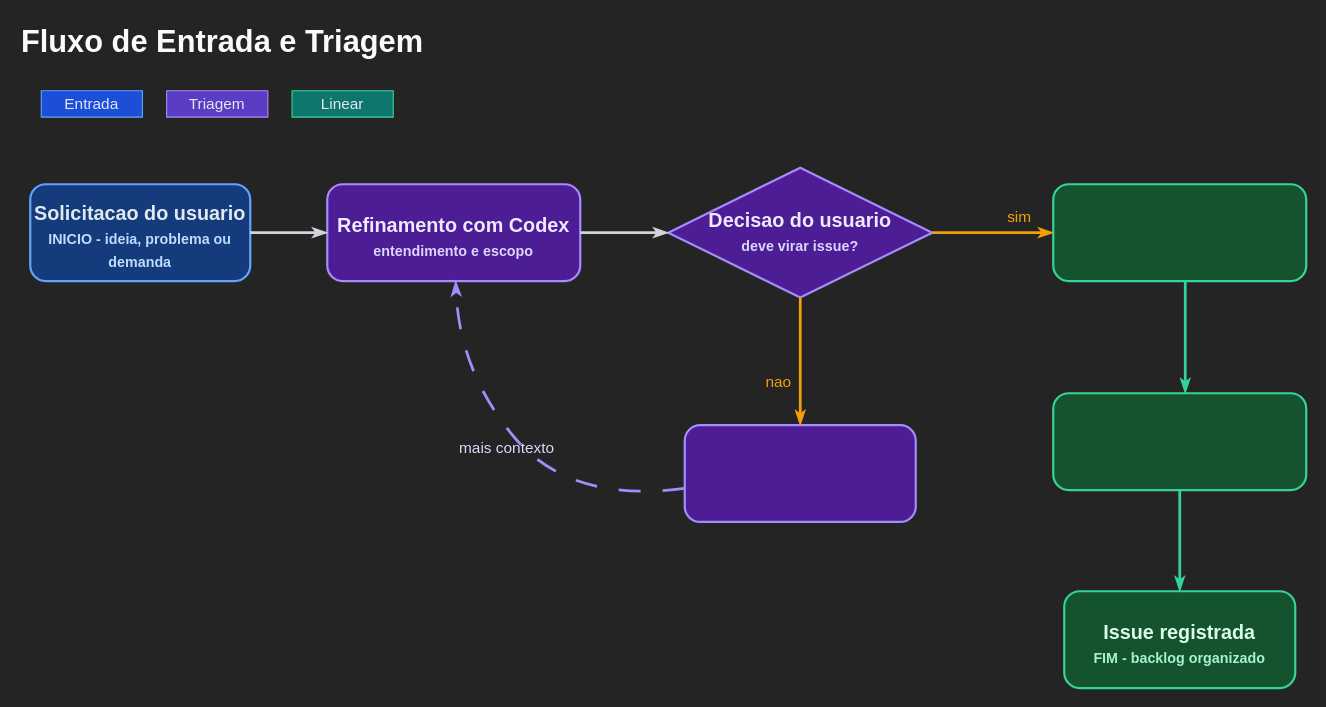
Some shapes in this 1326 by 707 pixel diagram are drawn without their labels. The box of each missing label's shape, as (x1, y1, x2, y2) in pixels:
Coletar mais contexto escopo ainda indefinido: (683, 424, 916, 522)
Criar / atualizar issue registrar no Linear: (1052, 183, 1307, 282)
Priorizar sprint, status e labels: (1052, 392, 1307, 491)
